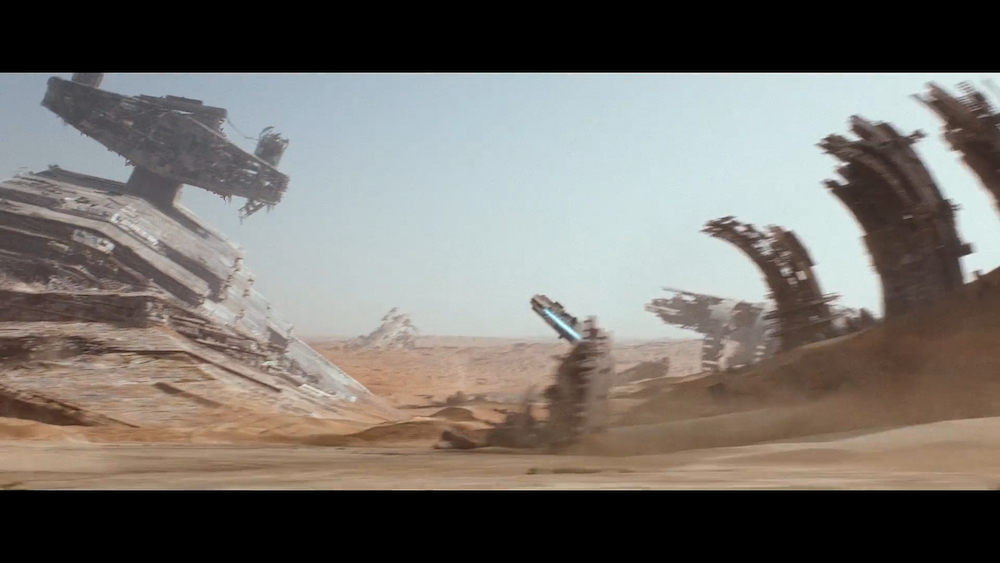Millennium Falcon: (527, 291, 610, 364)
